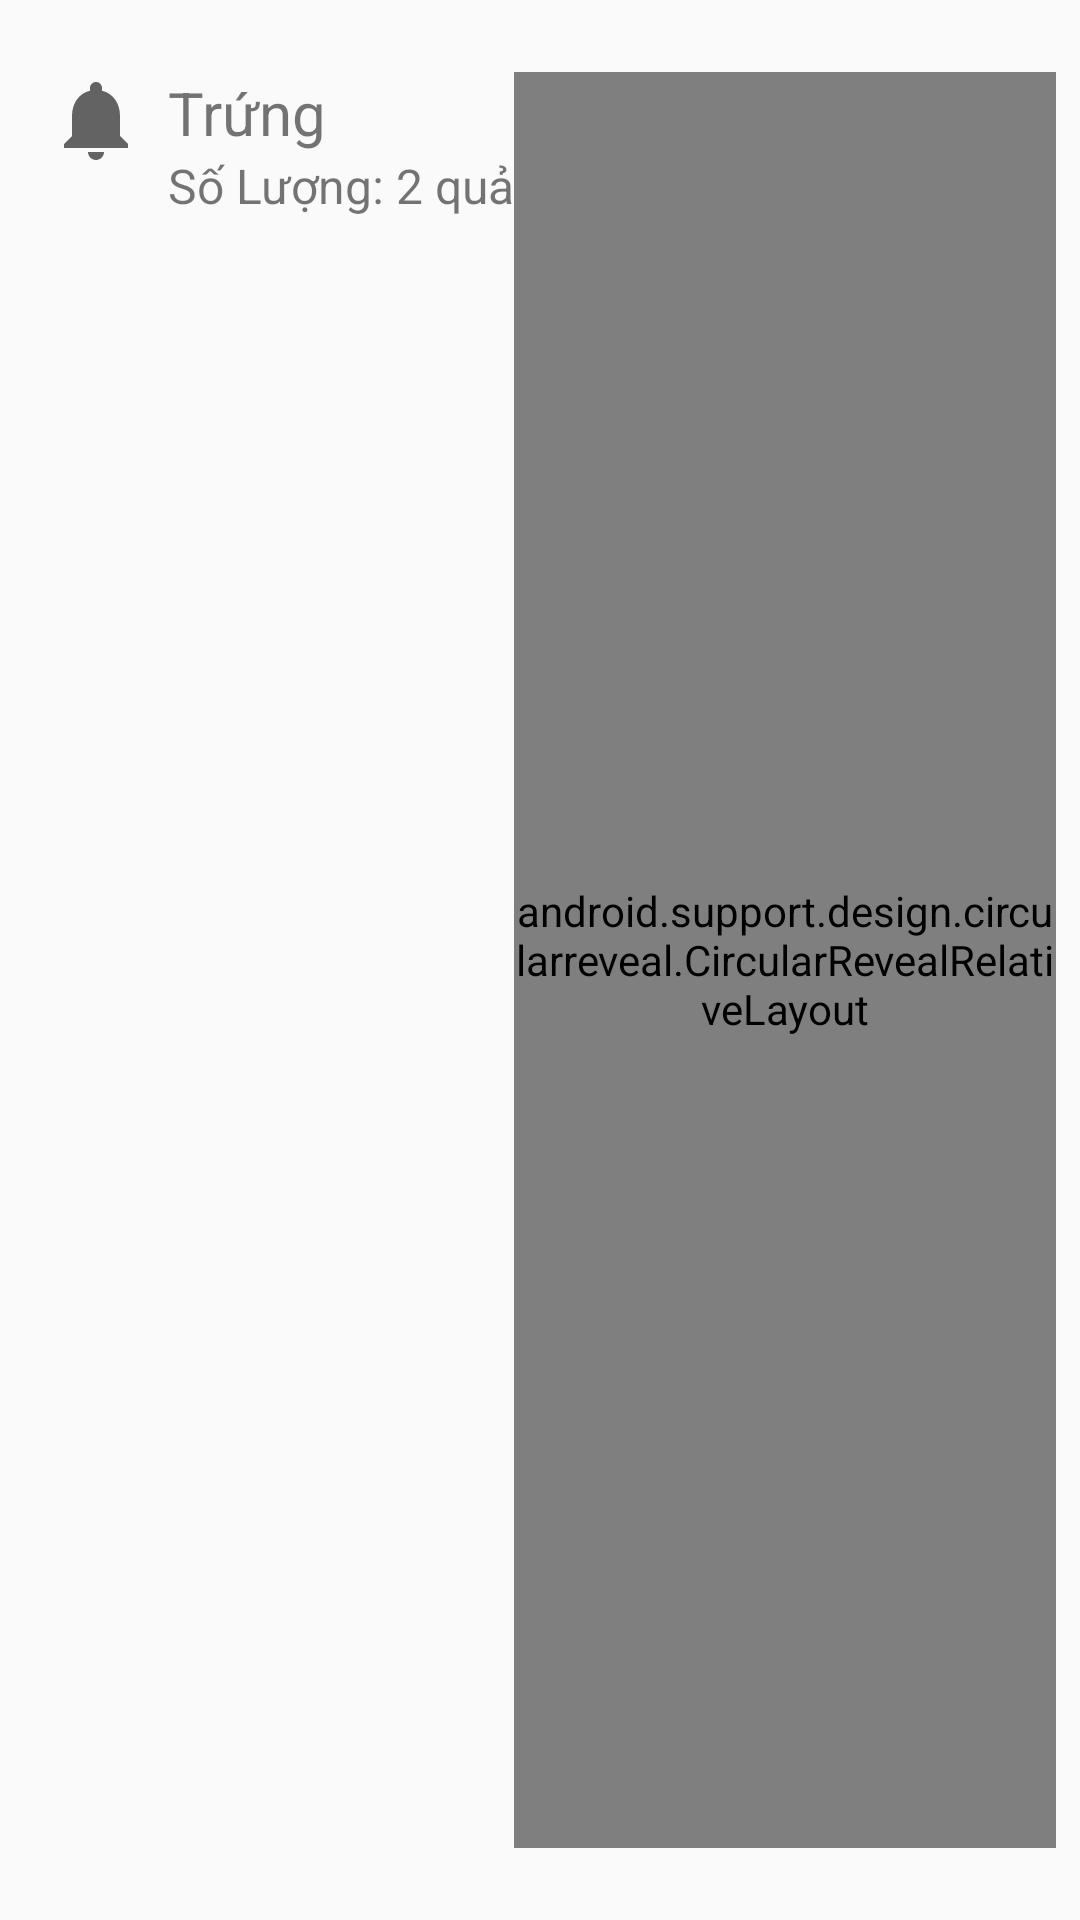

Where to tap for icons on this 1080w x 1920h app screen, as (x=x, y=y):
notifications: (x=96, y=121)
